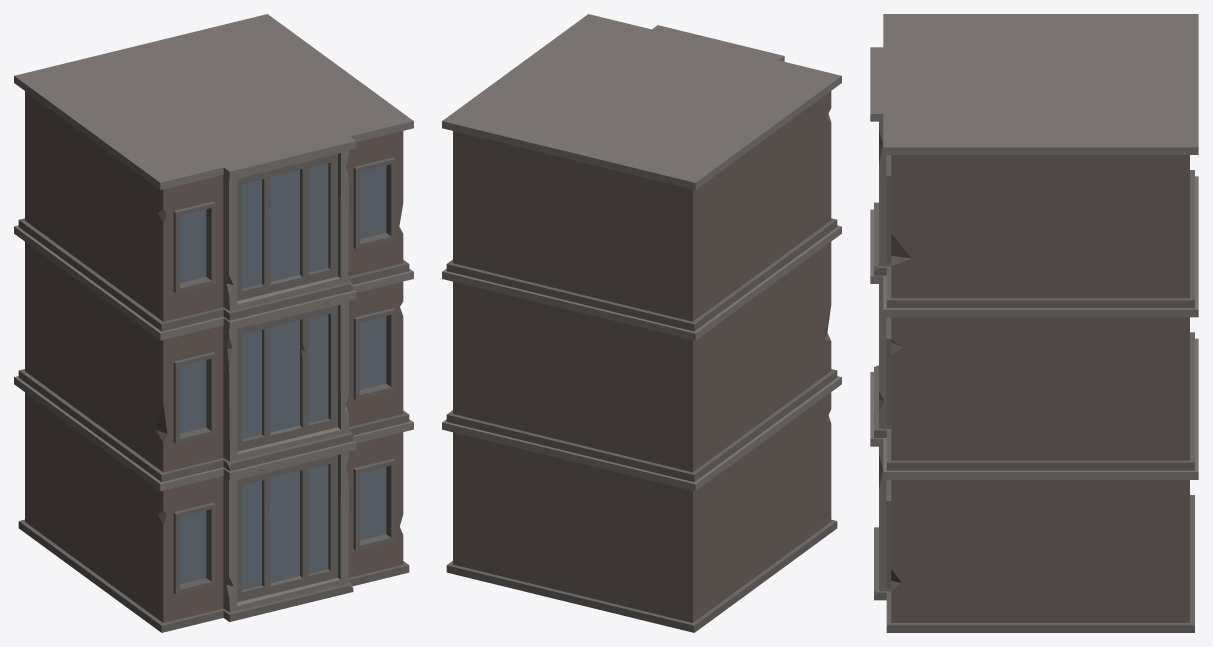
File: house1.fbx
3 renders of one model, left to right at view 1: azimuth 30°, elevation 25°; view 2: azimuth 150°, elevation 25°; view 3: azimuth 270°, elevation 25°, orthographic. The views are drawn at different scales.
Visible parts, largest first — view 1: SM_Bld_Apartment_Stack_03; view 2: SM_Bld_Apartment_Stack_03; view 3: SM_Bld_Apartment_Stack_03.
Boxes of the visible parts, box(x1,y1,x2,y2) form: SM_Bld_Apartment_Stack_03: box(14, 14, 413, 632); SM_Bld_Apartment_Stack_03: box(442, 14, 841, 632); SM_Bld_Apartment_Stack_03: box(870, 14, 1198, 632).
Size of the model in its own units: 0.0528 by 0.09 by 0.055.
Materials: 1 (1 with a texture image).
